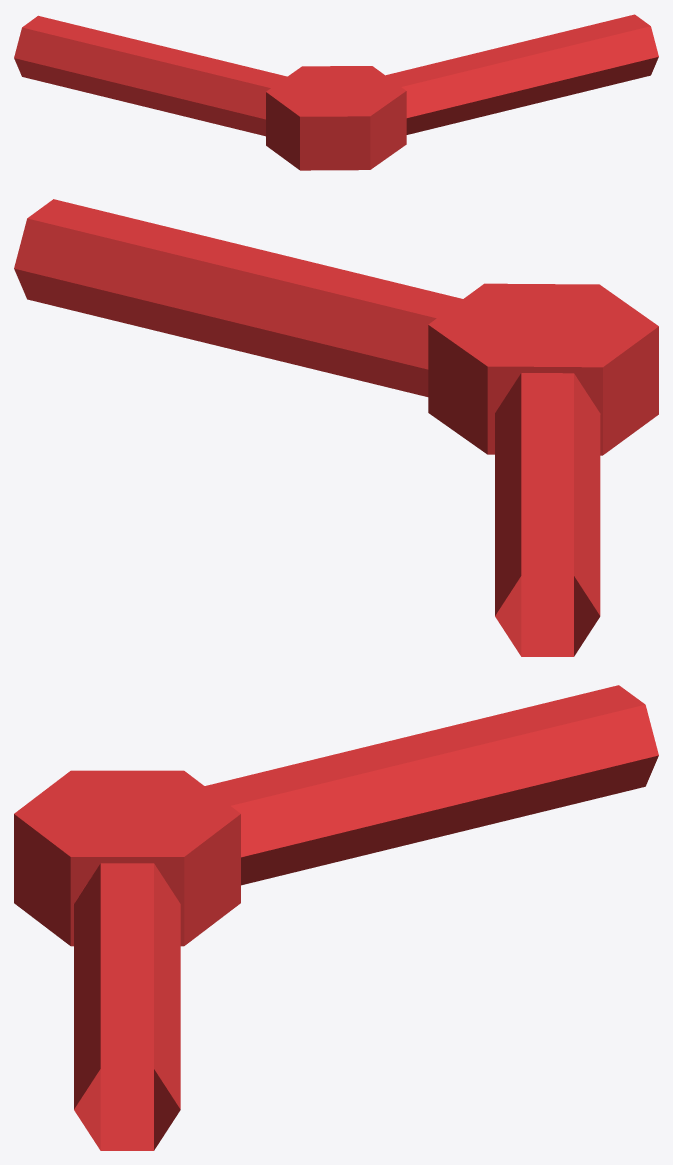
Rendered from HopefullyRoom.glb.
3 views of the same model, one above another, from view 1: azimuth 30°, elevation 25°; view 2: azimuth 150°, elevation 25°; view 3: azimuth 270°, elevation 25° (orthographic). The views are drawn at different scales.
Visible parts, largest first — view 1: Cylinder, Cylinder.002, Cylinder.001; view 2: Cylinder, Cylinder.002, Cylinder.001; view 3: Cylinder.002, Cylinder, Cylinder.001.
Part boxes in pixels (x1=…): Cylinder: x1=386, y1=14, x2=658, y2=134; Cylinder.002: x1=14, y1=15, x2=287, y2=136; Cylinder.001: x1=266, y1=66, x2=406, y2=170; Cylinder: x1=14, y1=199, x2=462, y2=396; Cylinder.002: x1=495, y1=373, x2=600, y2=656; Cylinder.001: x1=428, y1=283, x2=658, y2=455; Cylinder.002: x1=205, y1=685, x2=658, y2=885; Cylinder: x1=74, y1=863, x2=180, y2=1150; Cylinder.001: x1=14, y1=770, x2=240, y2=946.
Bounding box in the file's own units: 17.31 × 1.83 × 11.99.
